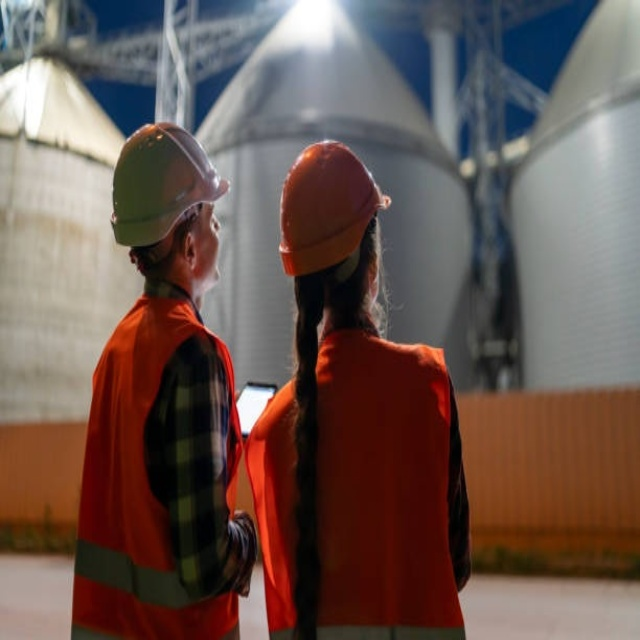Sin_gafas: (197, 199, 220, 234)
Sin_mascara: (199, 232, 226, 284)
